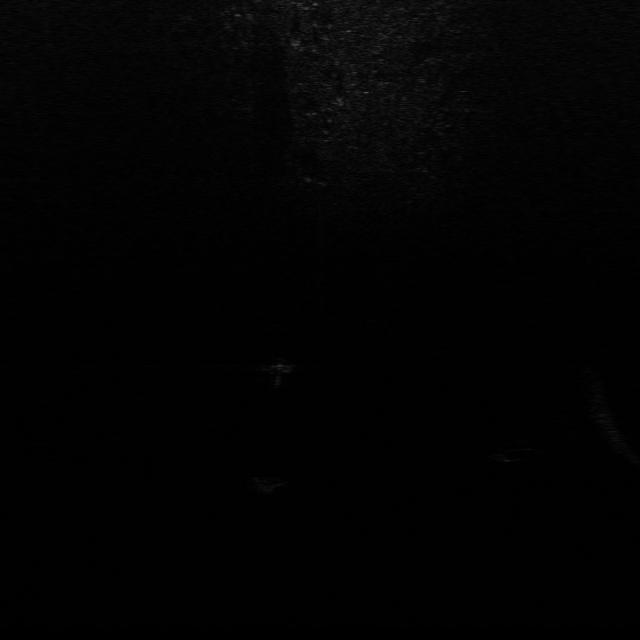cube: (246, 473, 288, 494)
square cage: (253, 351, 297, 376)
tyre: (488, 434, 551, 464)
